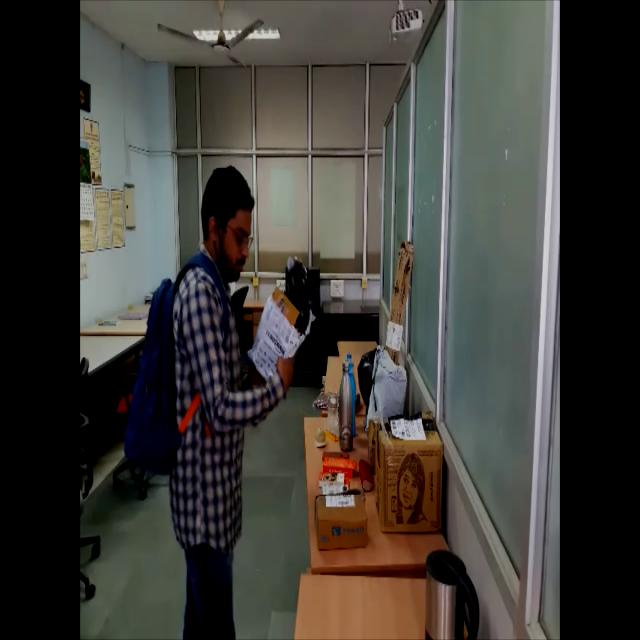normal: (122, 153, 314, 639)
